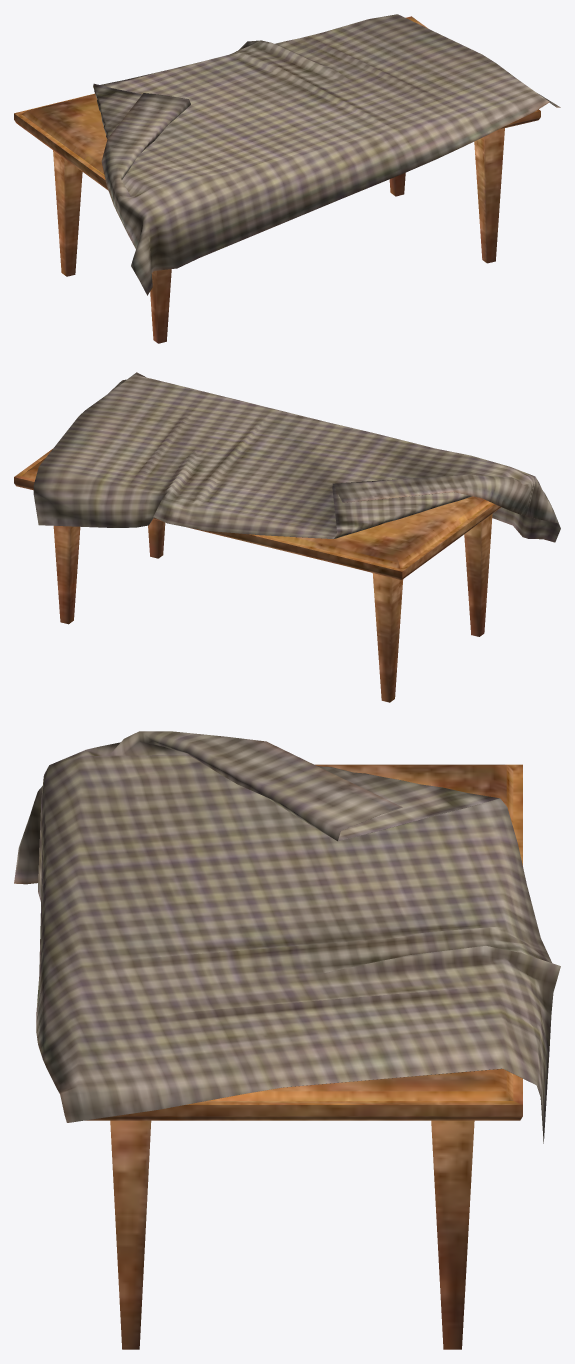
Rendered from table.glb.
The picture shows the model from 3 angles, top to bottom: view 1: azimuth 30°, elevation 25°; view 2: azimuth 150°, elevation 25°; view 3: azimuth 270°, elevation 25°; orthographic projection. The views are drawn at different scales.
Visible parts, largest first — view 1: dining_table_cloth, dining_table; view 2: dining_table_cloth, dining_table; view 3: dining_table_cloth, dining_table.
Boxes of the visible parts, left/top/right/bottom form: dining_table_cloth: left=93, top=14, right=560, bottom=295; dining_table: left=14, top=16, right=540, bottom=343; dining_table_cloth: left=33, top=372, right=560, bottom=542; dining_table: left=14, top=449, right=501, bottom=702; dining_table_cloth: left=14, top=731, right=560, bottom=1143; dining_table: left=85, top=764, right=522, bottom=1349.
Bounding box in the file's own units: 2.26 × 0.877 × 1.39.
Materials: 1 (1 with a texture image).
